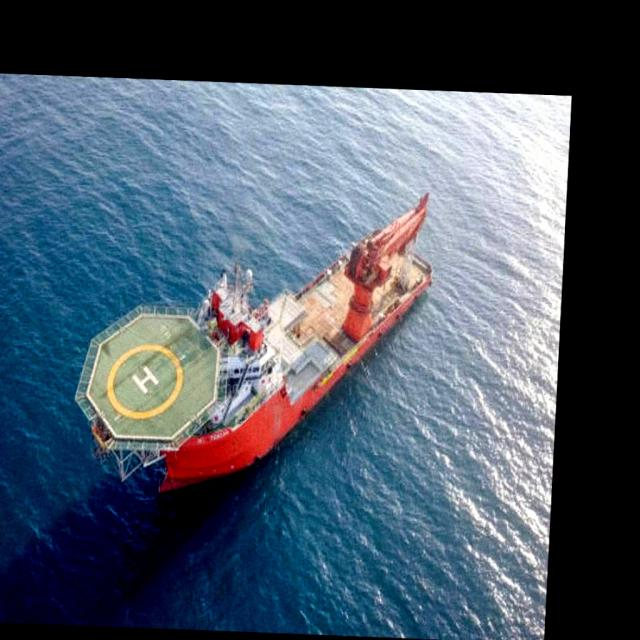helipad: (103, 341, 187, 422)
